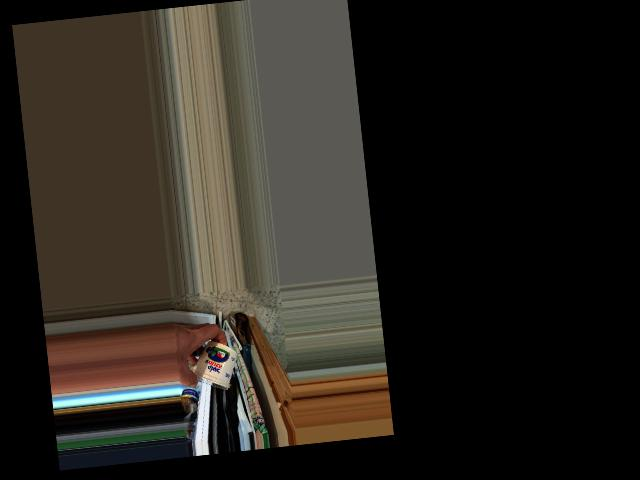cotage: (192, 340, 240, 394)
